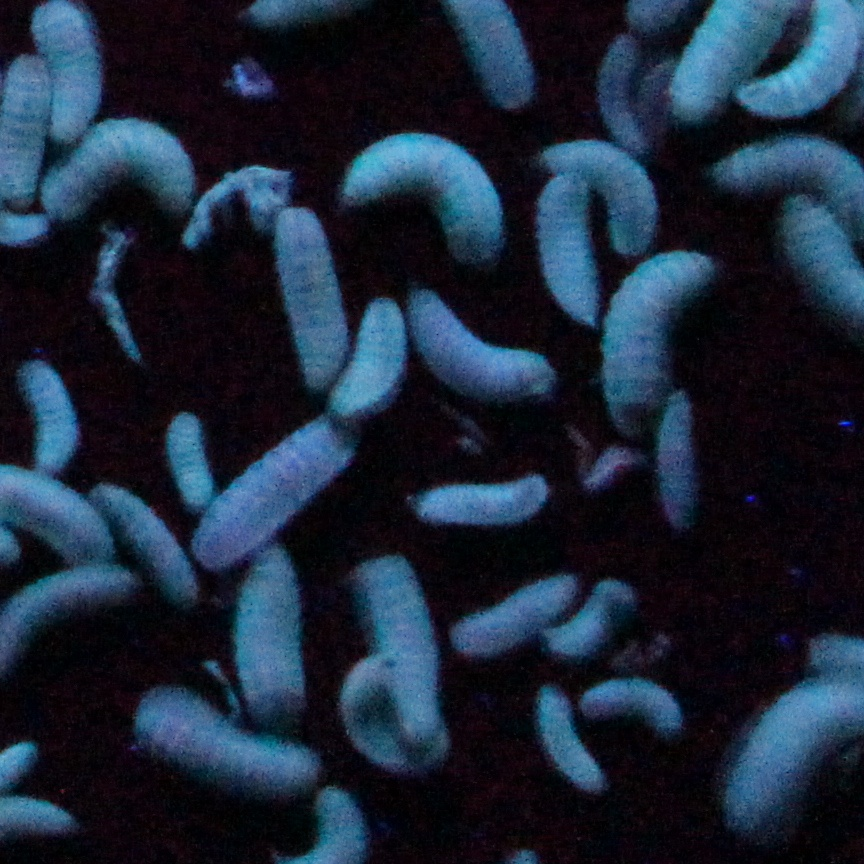larve: (194, 402, 362, 569), (127, 686, 327, 806), (334, 124, 505, 262), (409, 282, 565, 416), (605, 244, 704, 436), (227, 535, 320, 729), (267, 204, 354, 393), (360, 556, 445, 742), (342, 653, 462, 784), (91, 473, 203, 609), (540, 133, 660, 256), (42, 118, 194, 215), (445, 575, 580, 666), (531, 169, 607, 326), (525, 680, 618, 796), (325, 296, 402, 418), (13, 362, 87, 473), (583, 36, 653, 153), (653, 395, 711, 536), (405, 475, 547, 531), (574, 675, 693, 738), (549, 580, 638, 658), (158, 406, 225, 506), (0, 55, 43, 202)
